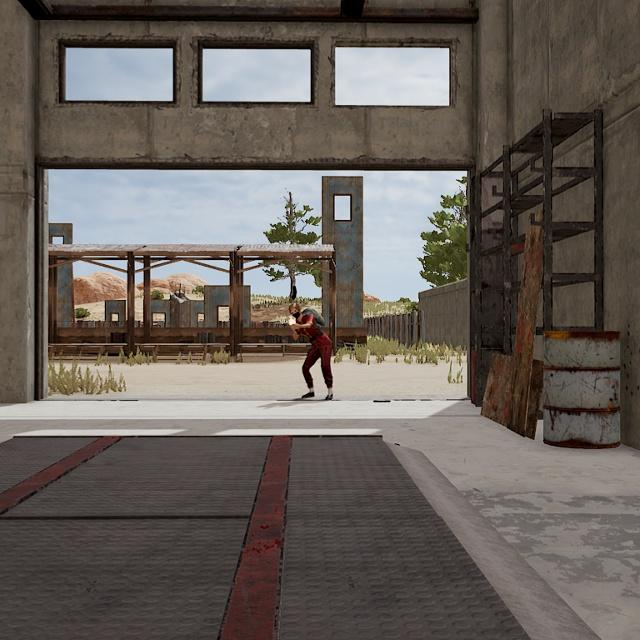head: (285, 298, 305, 321)
people: (281, 296, 347, 403)
